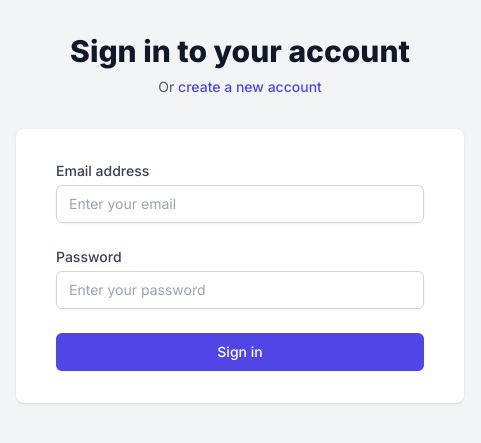
Login Component › handles login error
This screenshot has width=481, height=443.
In the field labelled "Email address": coordinates (240, 204) [56,185,424,223], type "test@example.com"
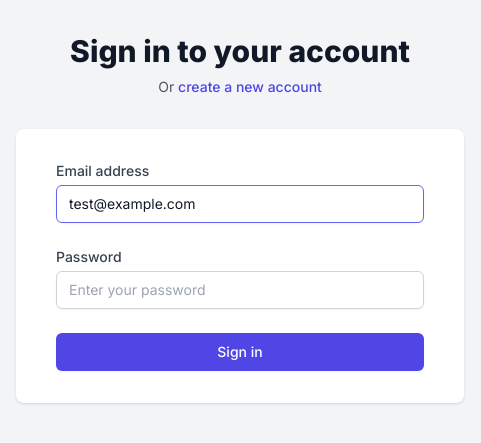
In the password field labelled "Password": coordinates (240, 290) [56,271,424,309], type "wrongpassword"
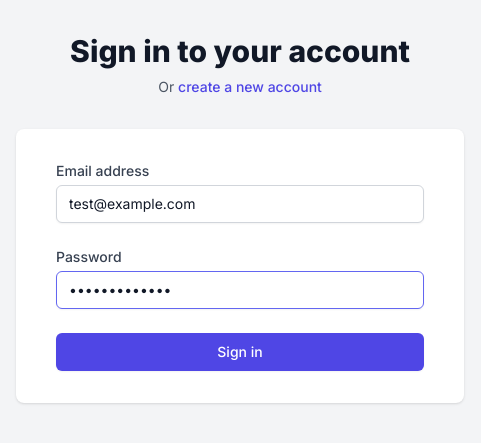
Submit the form from the button "Sign in", box [56,333,424,371]
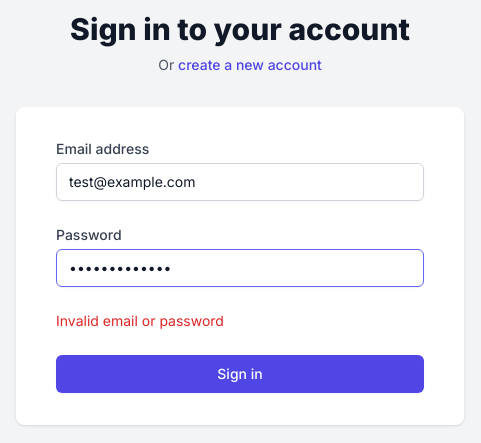
Expected: the text "Invalid email or password" is shown, [56,312,224,329]
